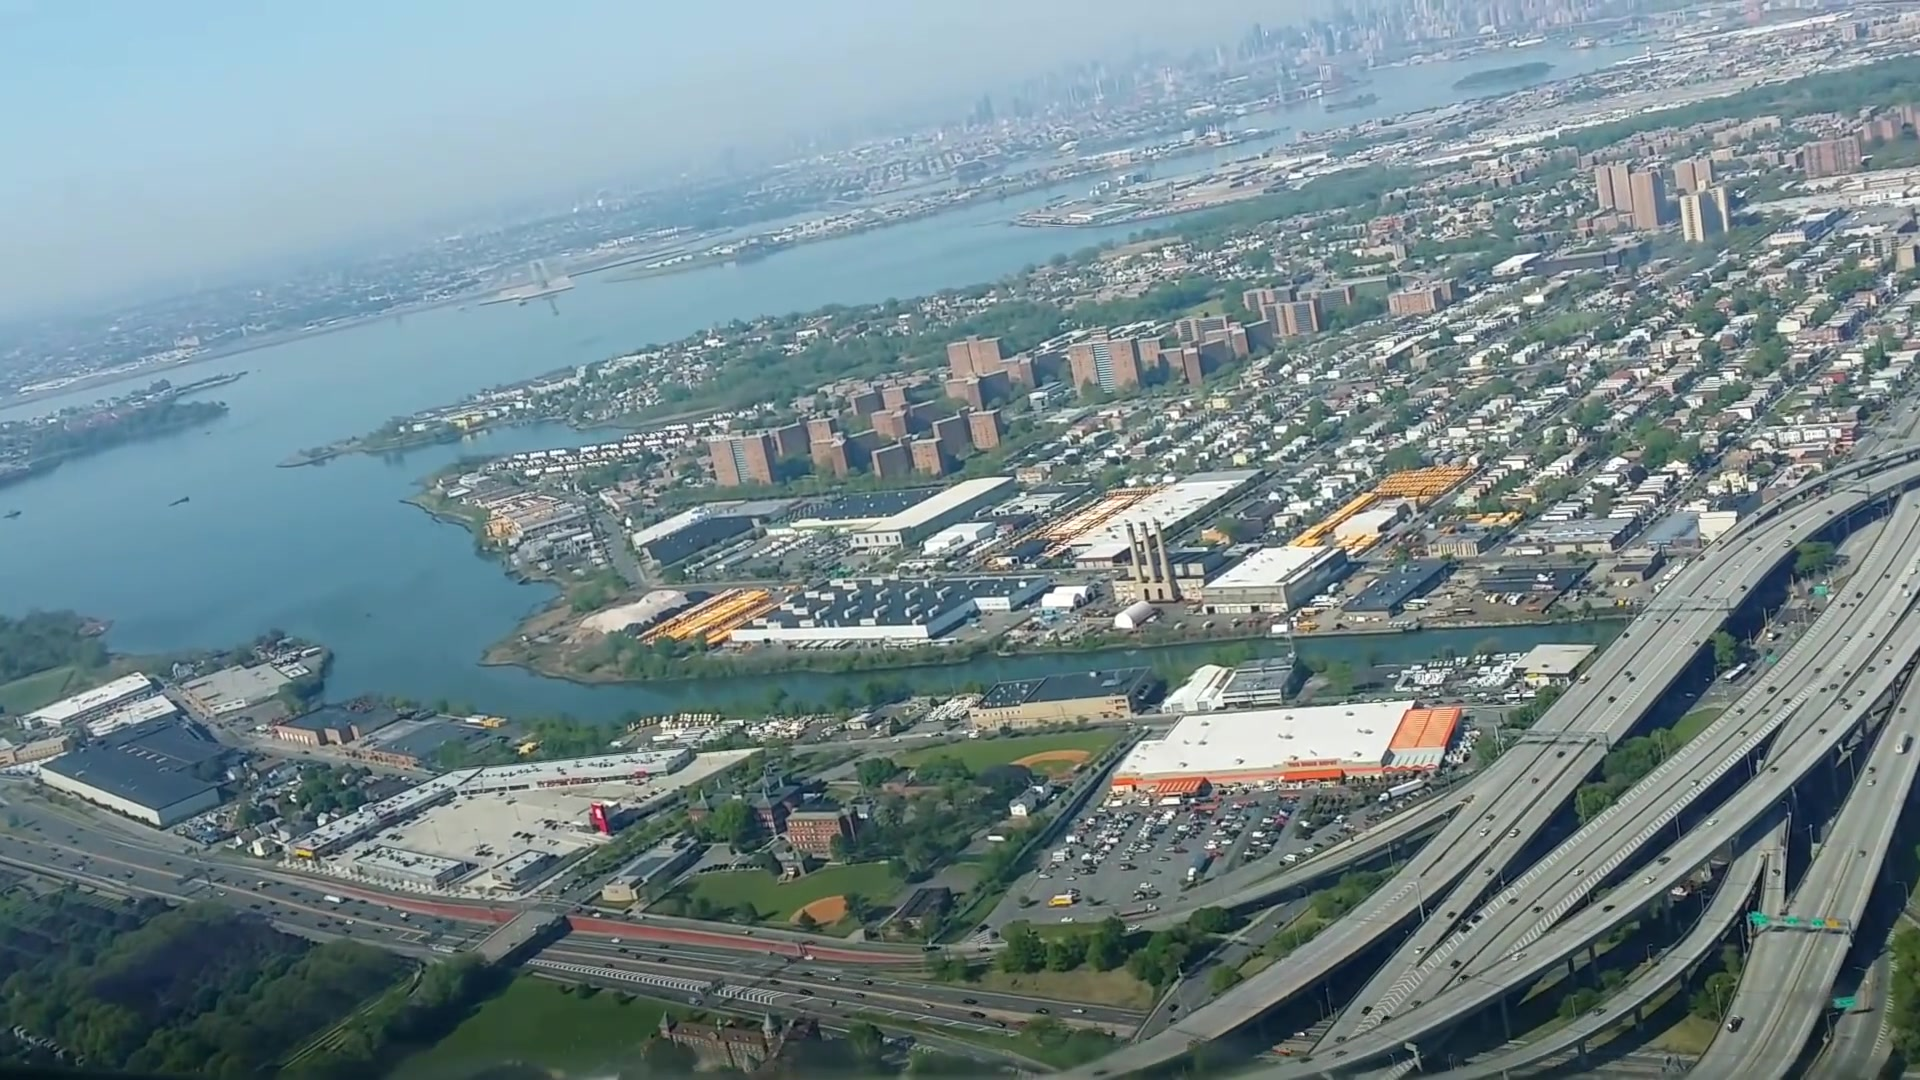runway: (527, 258, 555, 293)
